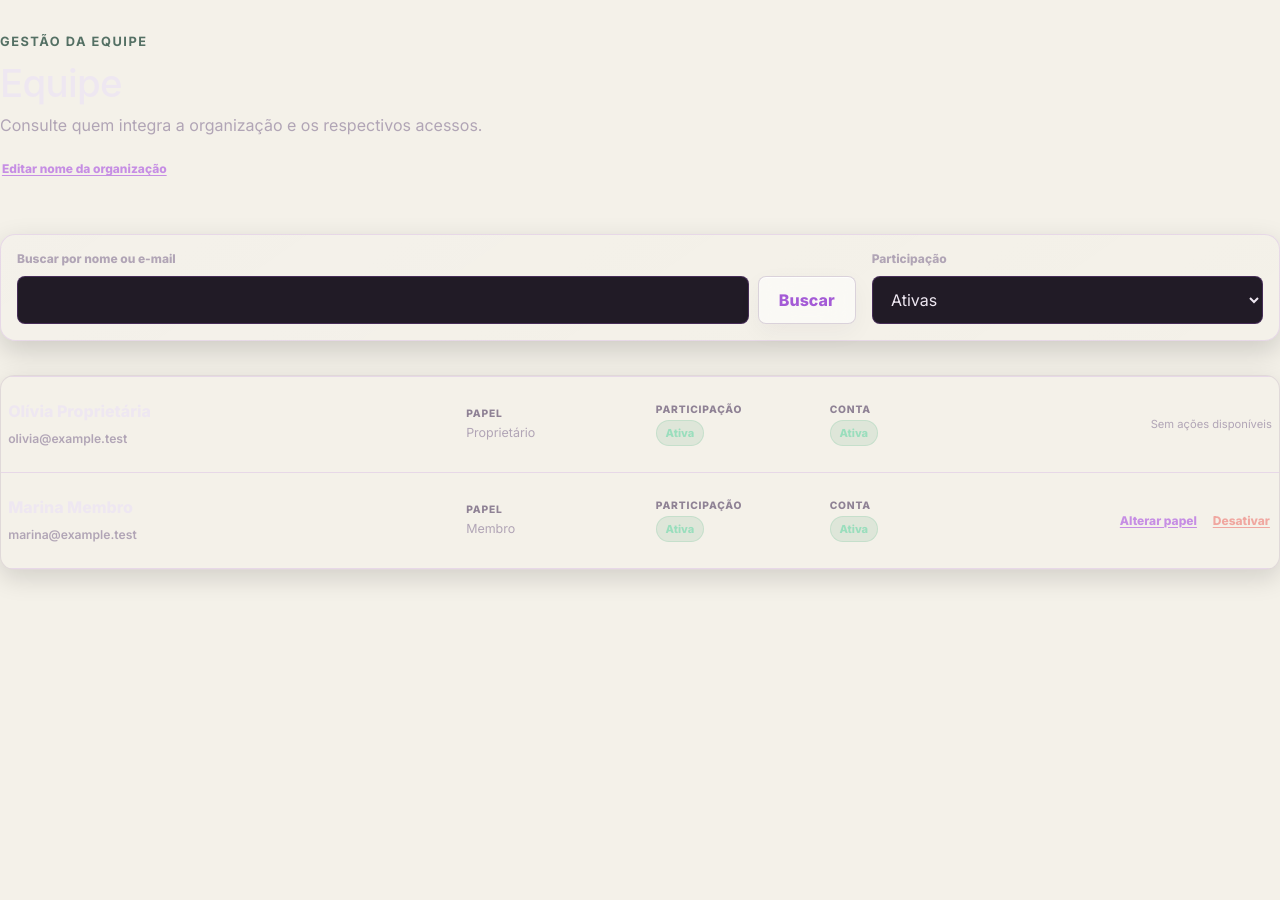
it: team administration flow › Deactivate_UsesDeliberateKeyboardConfirmationAndRefreshesAfterSuccess
The width and height of the screenshot is (1280, 900).
Click the button "Desativar": {"x": 1241, "y": 520} [1211,498,1272,542]
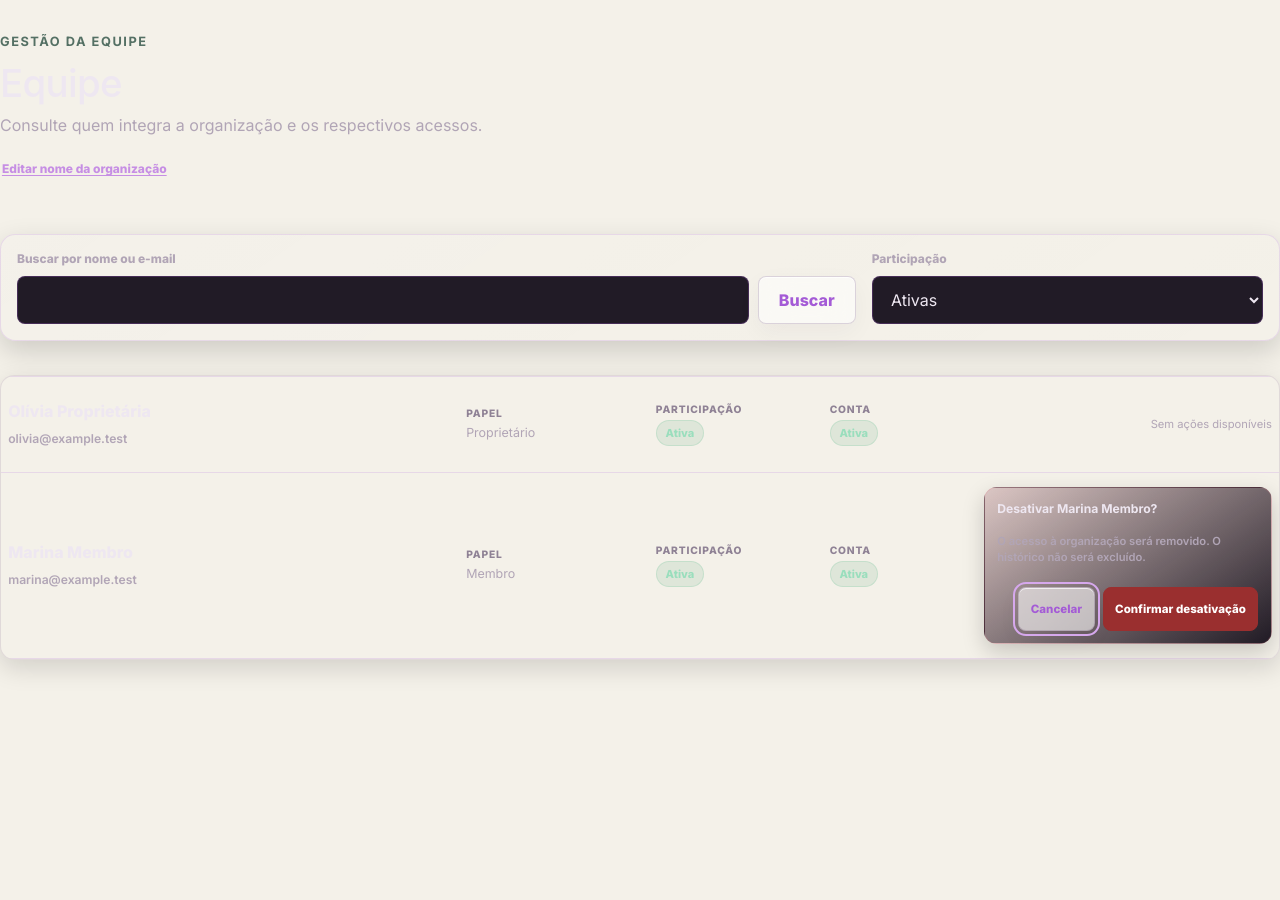
Check: the dialog shows "O acesso à organização será removido.", box [997,534,1221,564]
Press Tab in the dialog, box [984,487,1272,644]
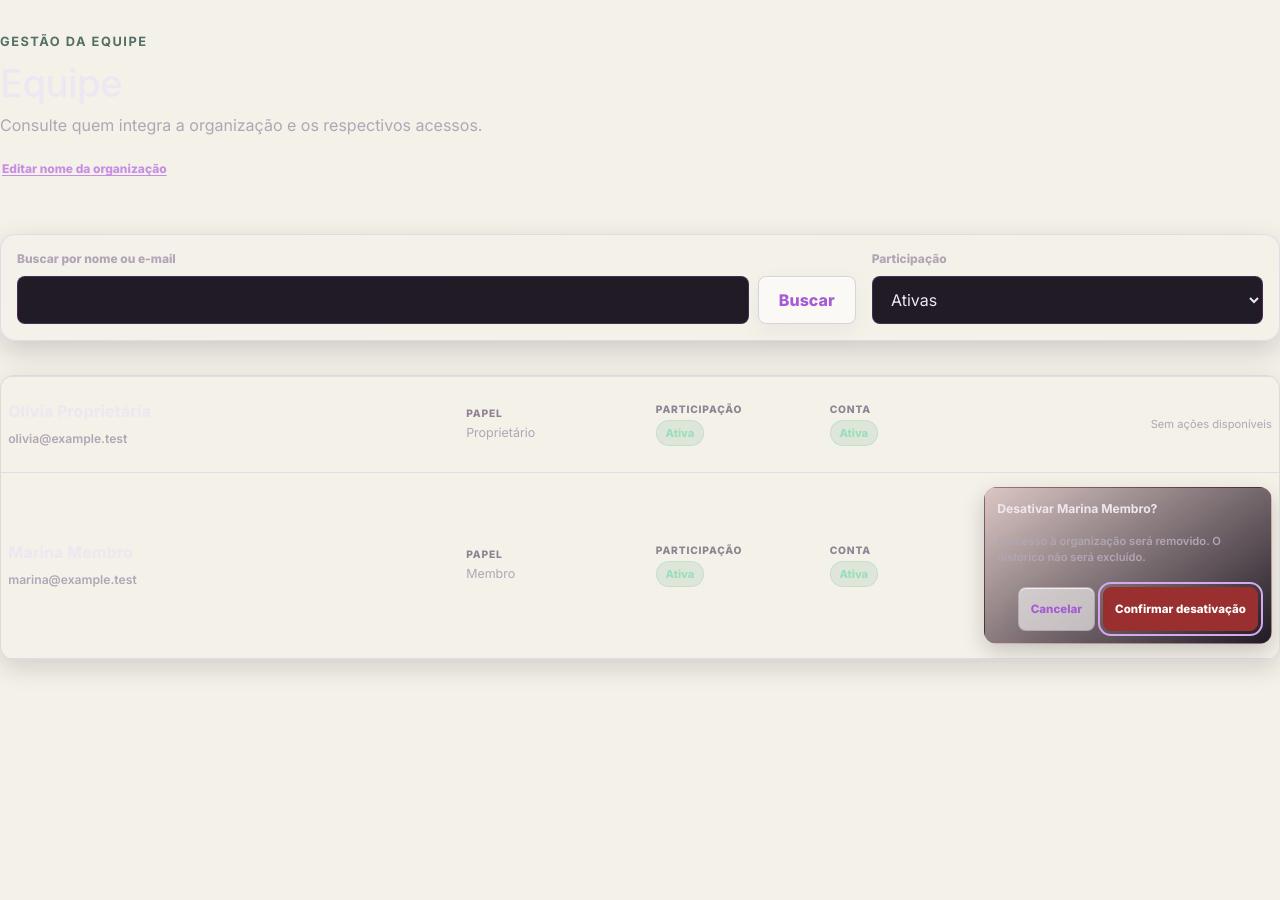
Press Tab in the dialog, box [984,487,1272,644]
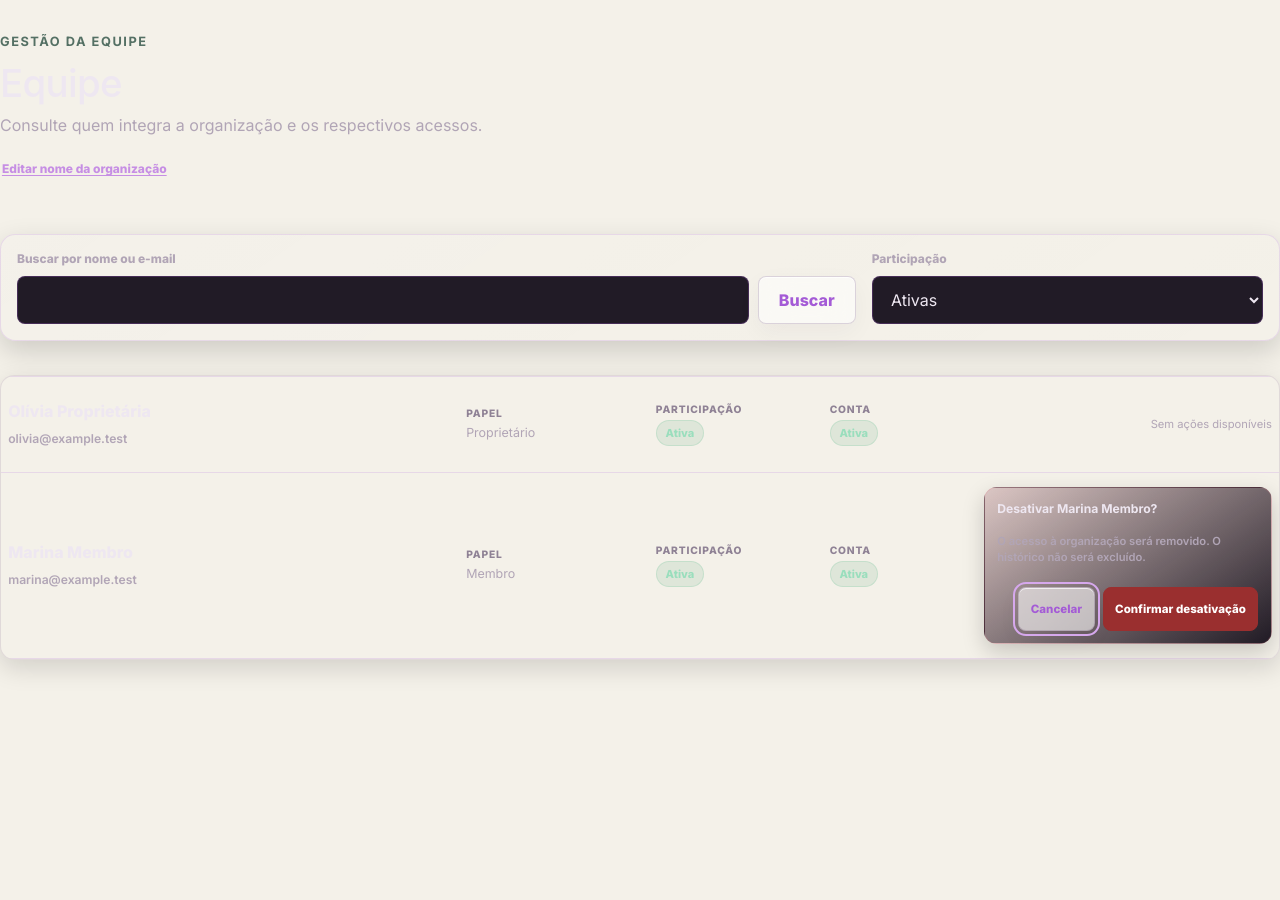
Press Escape in the dialog, box [984,487,1272,644]
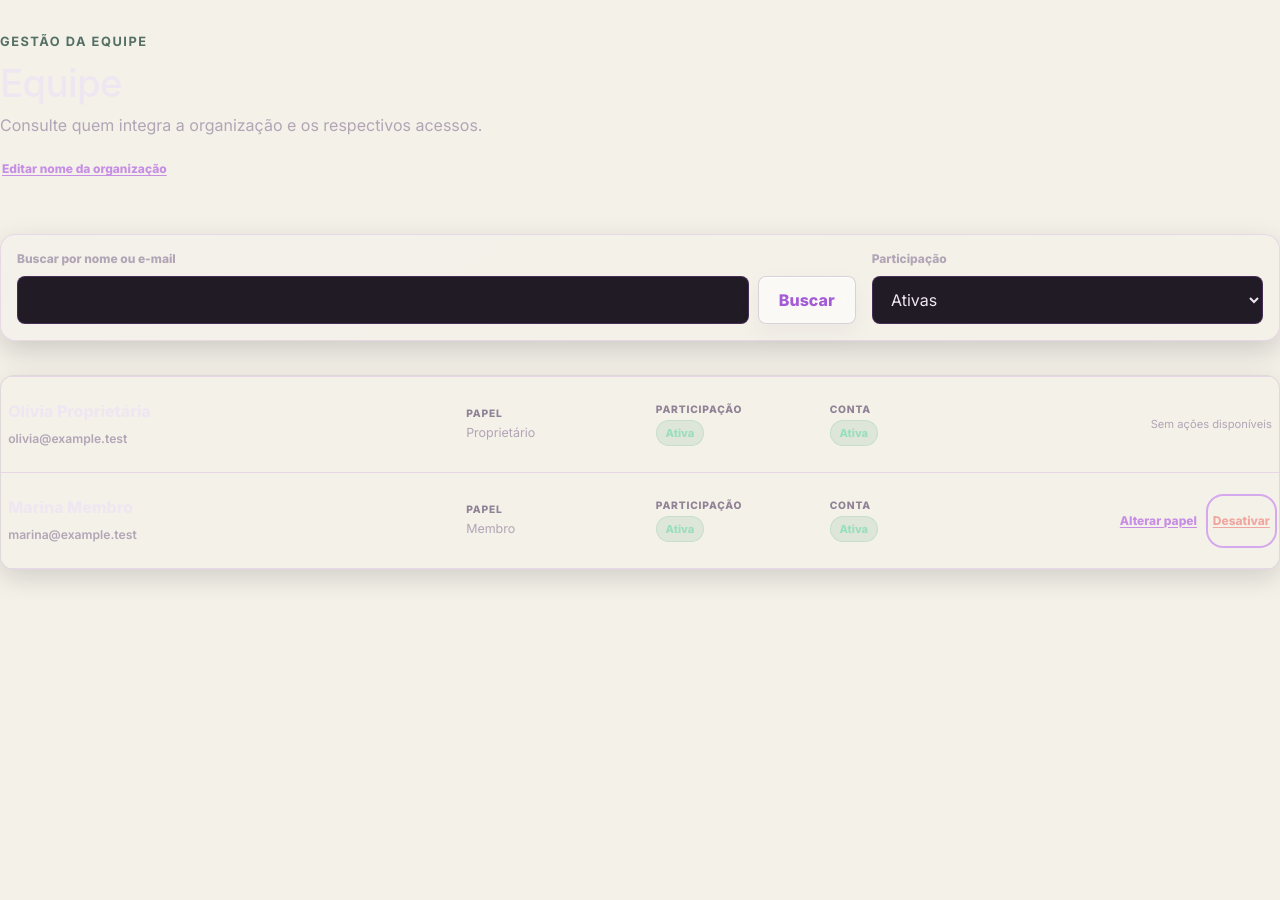
Click the button "Desativar": {"x": 1241, "y": 520} [1211,498,1272,542]
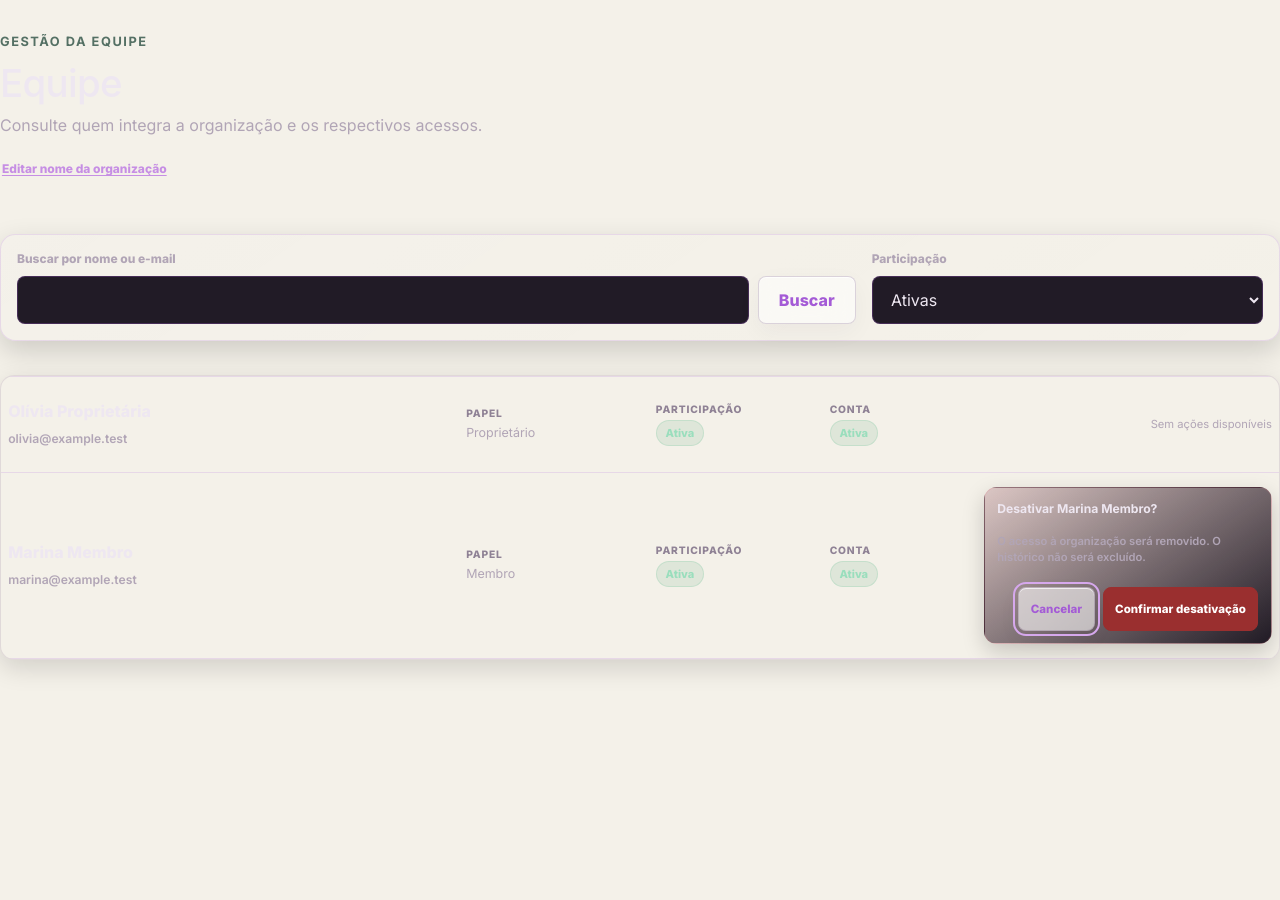
Click the button "Confirmar desativação": {"x": 1180, "y": 609} [1103,587,1258,631]
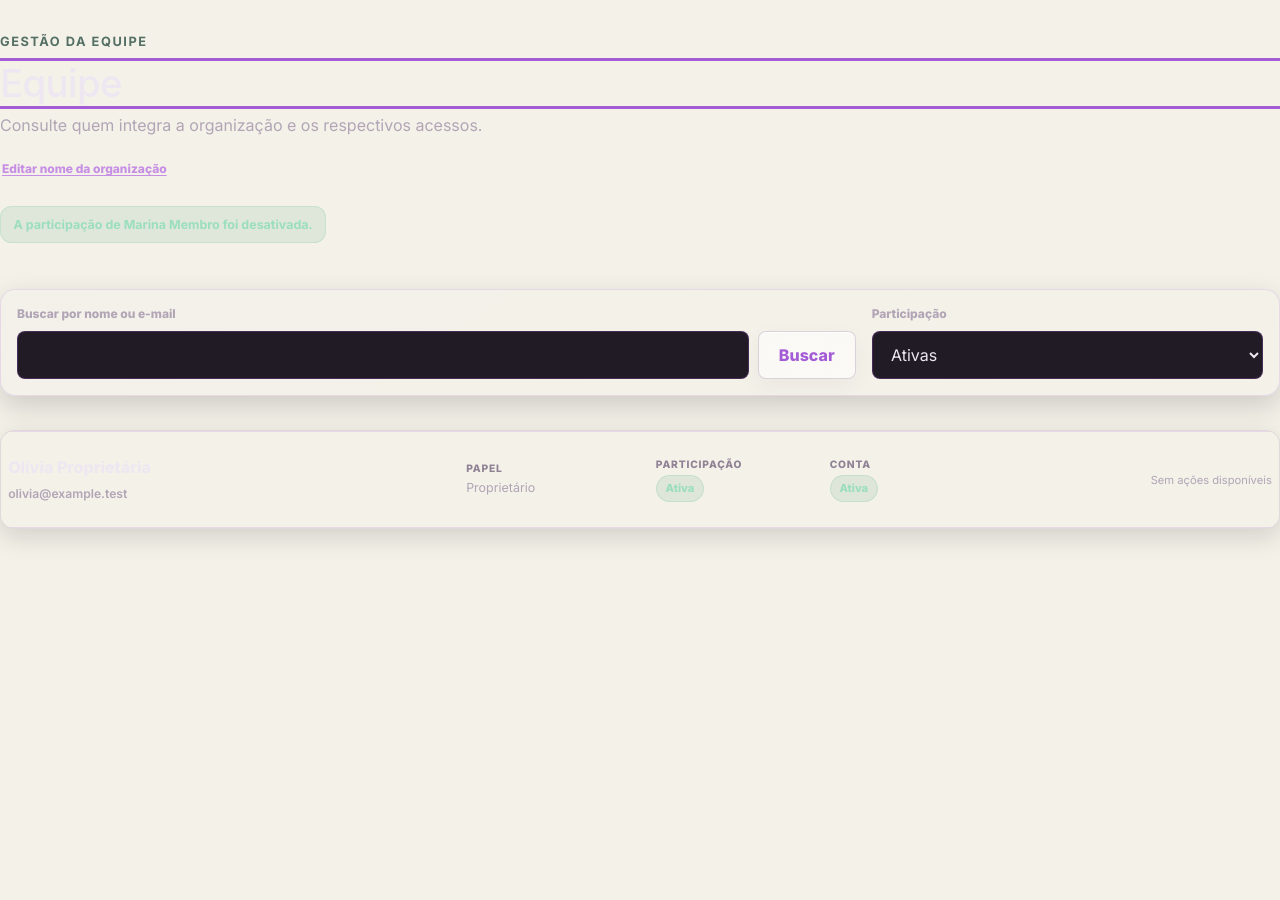
Check: the text "A participação de Marina Membro foi desativada." is shown, box [0,206,326,243]
